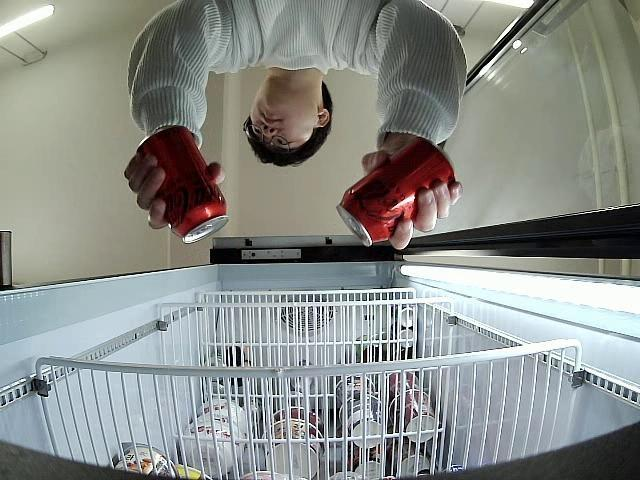11_cocaColaZero: (337, 138, 455, 246), (138, 125, 228, 244)
